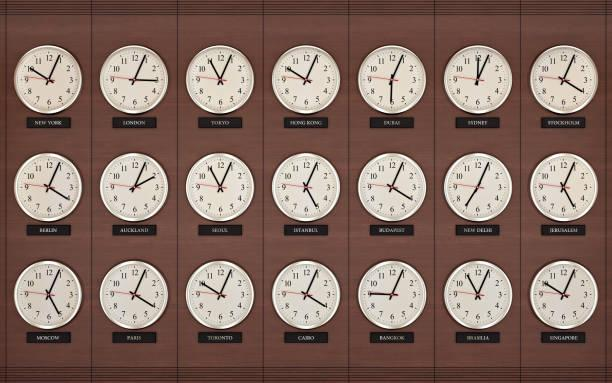clock: (357, 260, 427, 330), (443, 260, 513, 330), (530, 260, 599, 330), (271, 261, 341, 330), (185, 261, 256, 329), (443, 46, 514, 114), (185, 154, 256, 222), (357, 46, 427, 114), (13, 154, 83, 222), (443, 154, 513, 222), (270, 154, 340, 222), (185, 47, 256, 114), (358, 154, 427, 222), (99, 261, 168, 329), (100, 154, 169, 222), (13, 261, 82, 329), (530, 154, 599, 222), (272, 47, 341, 114), (100, 47, 168, 114), (530, 46, 598, 113), (13, 47, 82, 113)
